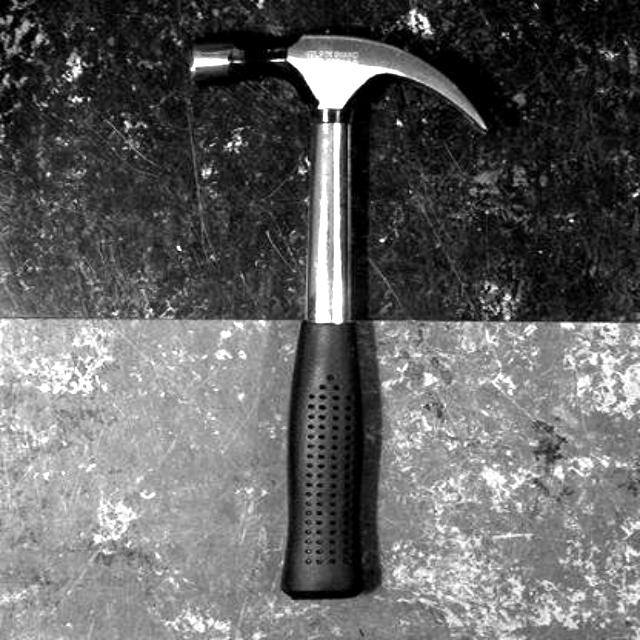hammer: (184, 36, 522, 608)
